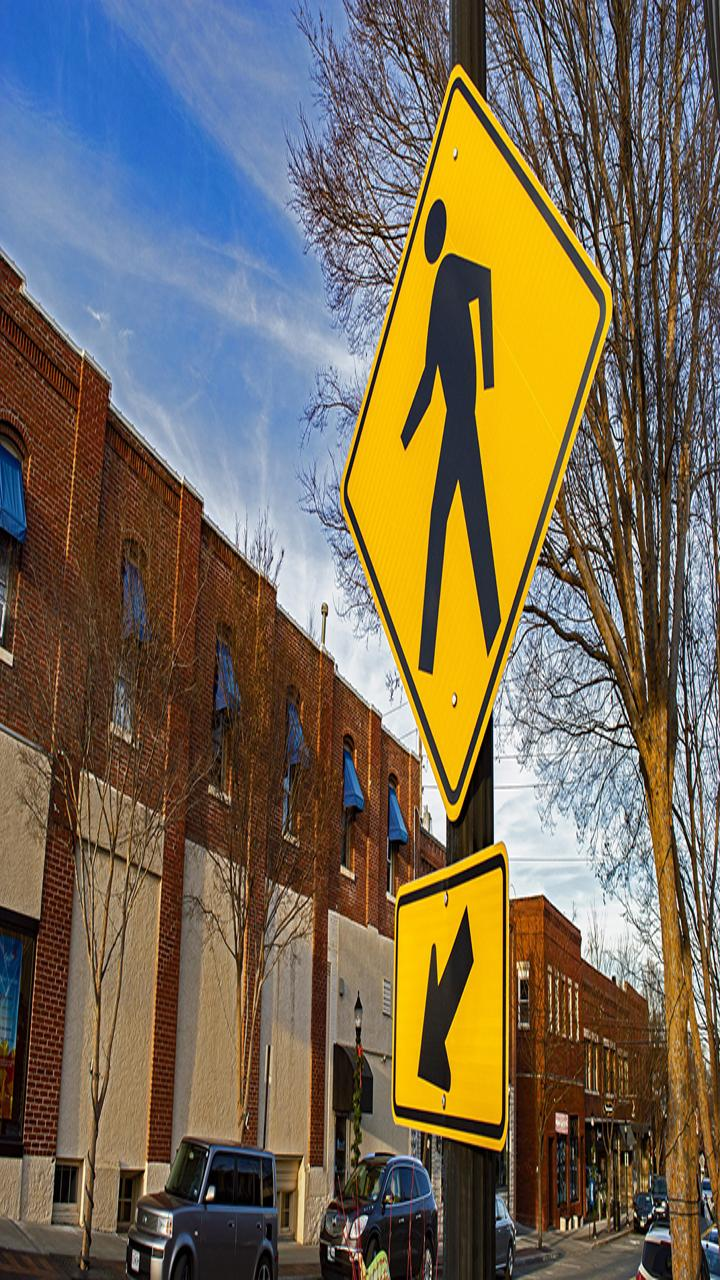Traffic sign: (294, 51, 614, 828), (376, 868, 551, 1177)
vehicle: (112, 1133, 283, 1280), (319, 1135, 451, 1277)
